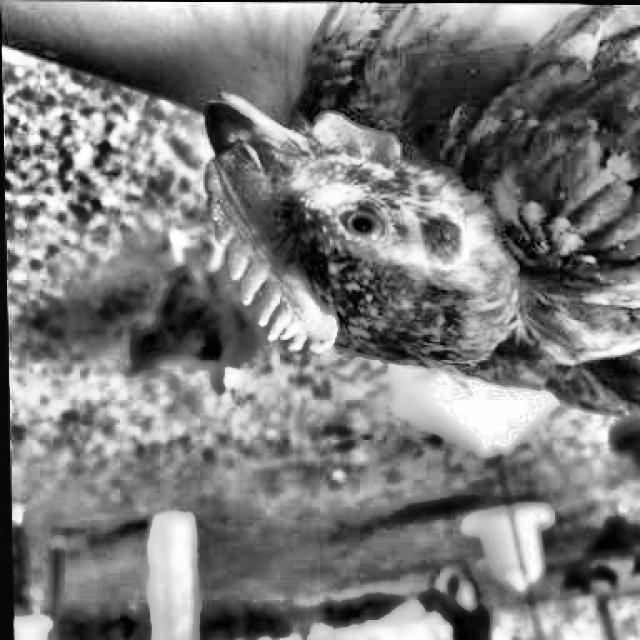Healthy: (332, 190, 412, 250)
